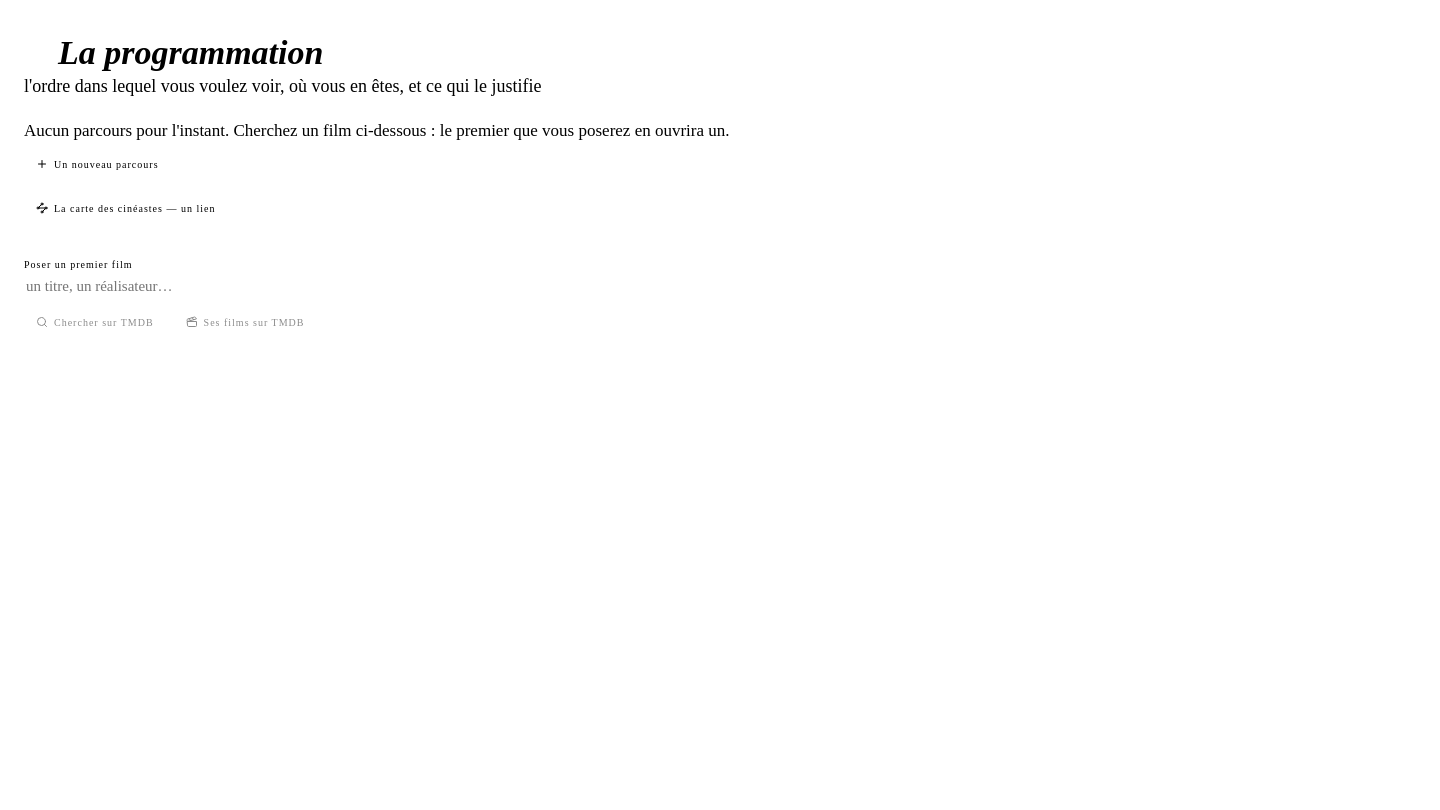
Test: la moisson › dit « on n'a pas pu demander », et non « il n'y a rien »
This screenshot has width=1440, height=810.
Click the button "La carte des cinéastes — un lien" at [126, 208], box [24,195,227,221]
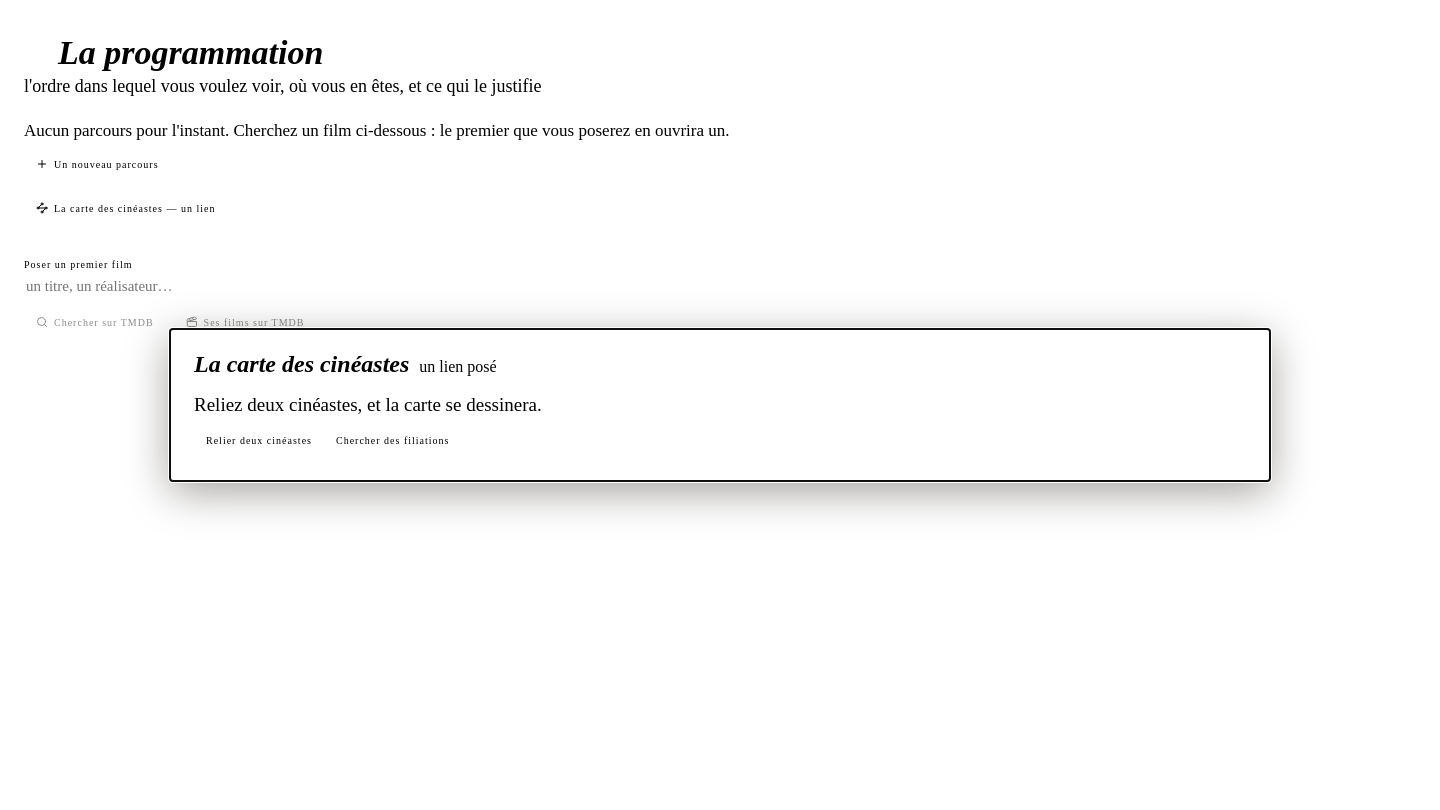
Click the button "Chercher des filiations" at [393, 440], box [324,428,462,453]
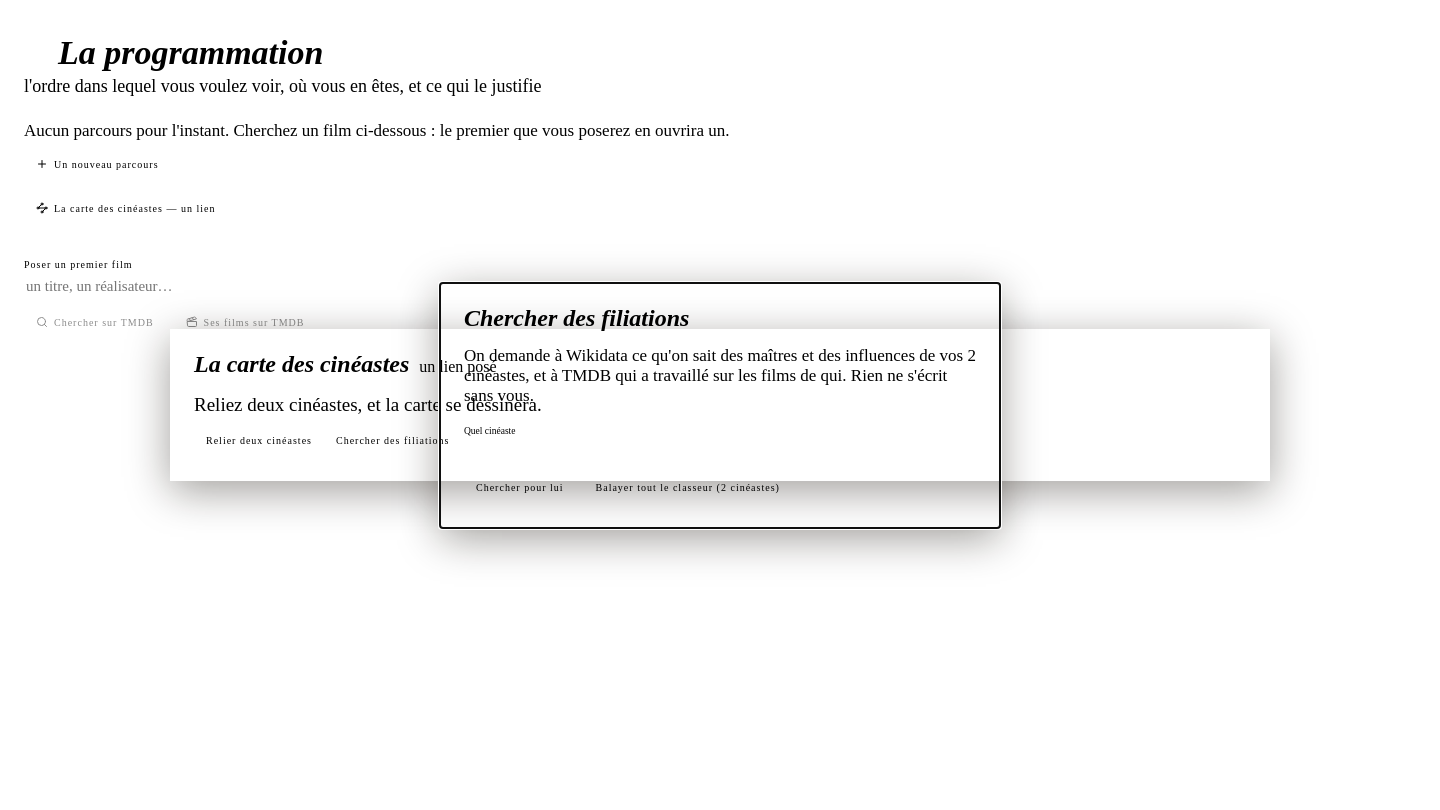
Type "Kurosawa" into the field at [720, 450], box [464,438,976,462]
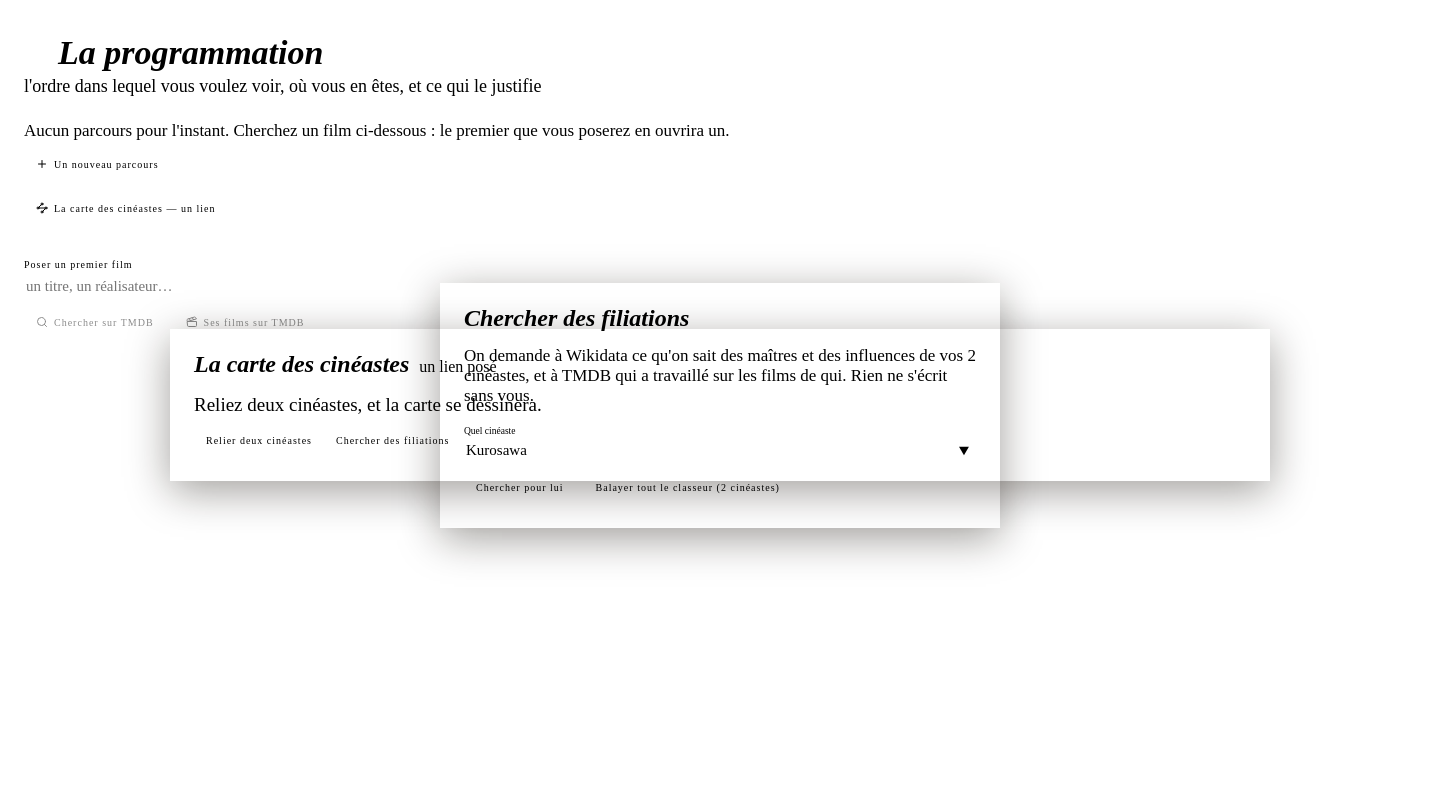
Click the button "Chercher pour lui" at [520, 487], box [464,474,576,500]
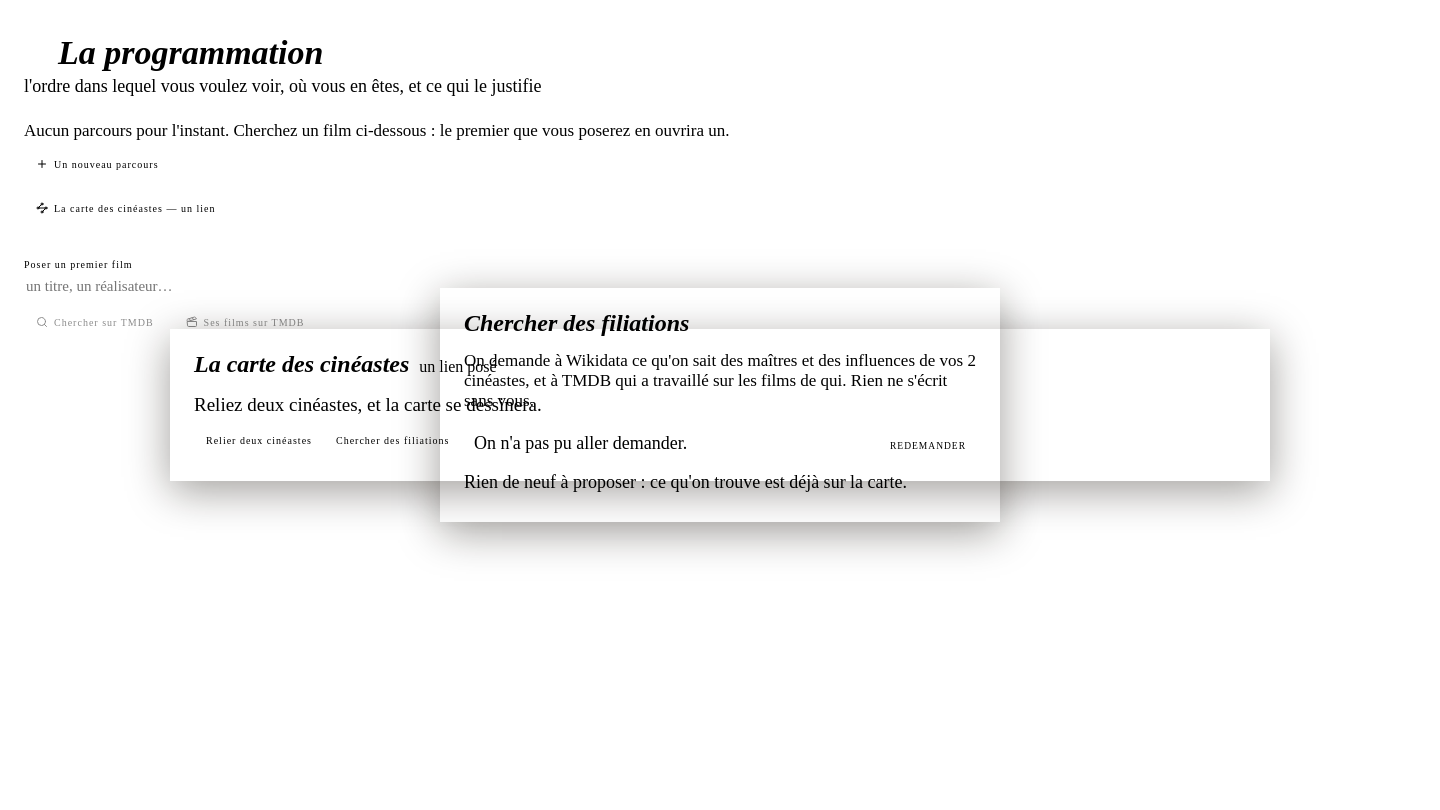
Check: the message shows "On n'a pas pu aller demander.", box [474,433,687,453]
Check: the button "Redemander" is shown, box [890,440,966,452]
